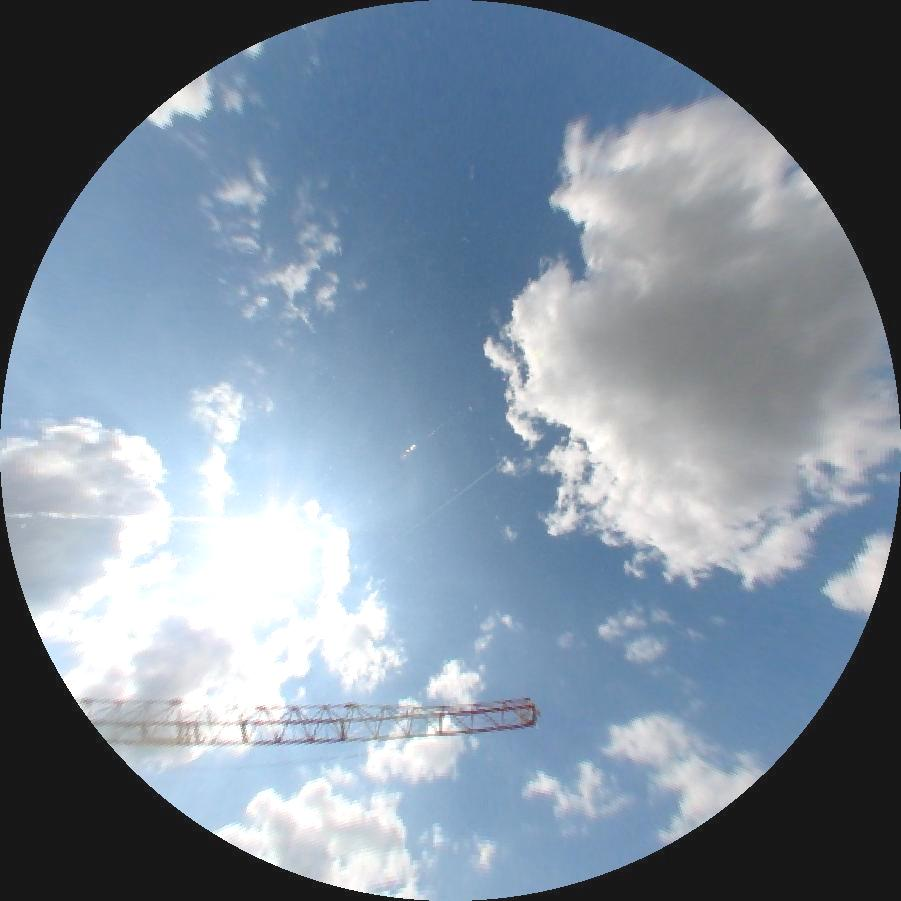contrail young: (389, 460, 503, 548)
parasite: (4, 511, 287, 524)
sun: (209, 506, 315, 596)
